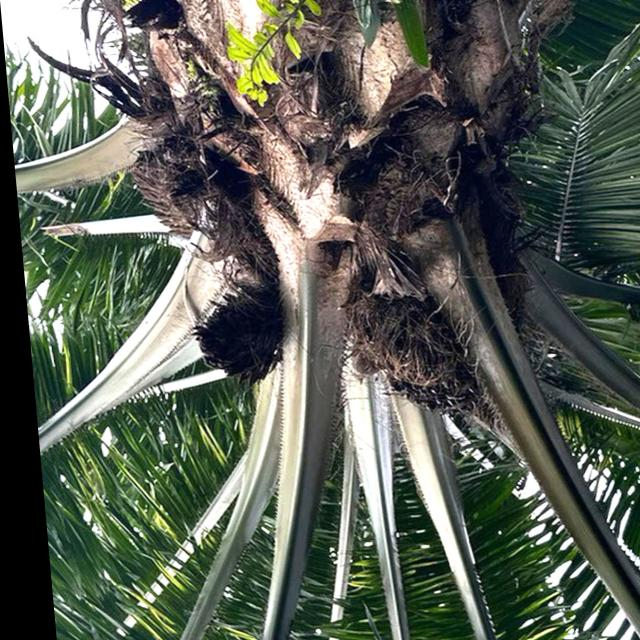almost: (334, 283, 485, 423)
